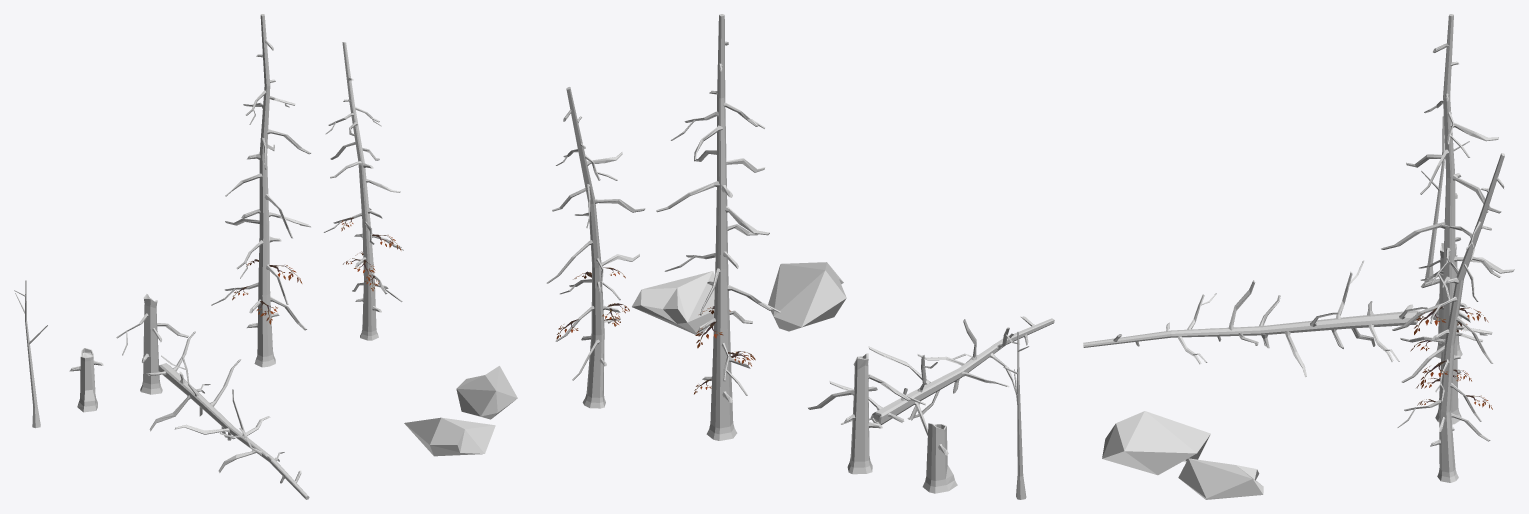
Rendered from trees.FBX.
3 views of the same model, side by side, from view 1: azimuth 30°, elevation 25°; view 2: azimuth 150°, elevation 25°; view 3: azimuth 270°, elevation 25° (orthographic). The views are drawn at different scales.
Visible parts, largest first — view 1: Tree_2, Tree_3, Tree_!, Rock_2, Rock_1, Tree_4, Tree_5; view 2: Tree_2, Tree_3, Tree_!, Rock_2, Rock_1, Tree_4, Tree_5; view 3: Tree_3, Tree_2, Tree_!, Rock_2, Rock_1, Tree_5.
Part boxes in pixels (x1,y1,x2,y2): Tree_2: (211, 14, 311, 367); Tree_3: (116, 294, 309, 499); Tree_!: (323, 42, 403, 340); Rock_2: (404, 417, 495, 456); Rock_1: (456, 366, 517, 419); Tree_4: (69, 348, 103, 412); Tree_5: (14, 280, 47, 428); Tree_2: (656, 14, 780, 440); Tree_3: (808, 316, 1054, 474); Tree_!: (546, 87, 645, 408); Rock_2: (768, 262, 846, 331); Rock_1: (632, 271, 714, 336); Tree_4: (922, 423, 957, 493); Tree_5: (1003, 331, 1029, 499); Tree_3: (1083, 243, 1467, 377); Tree_2: (1381, 14, 1514, 424); Tree_!: (1397, 153, 1504, 482); Rock_2: (1102, 411, 1210, 475); Rock_1: (1178, 458, 1263, 499); Tree_5: (1421, 116, 1469, 282).
Bounding box in the file's own units: 310 × 260 × 245.
